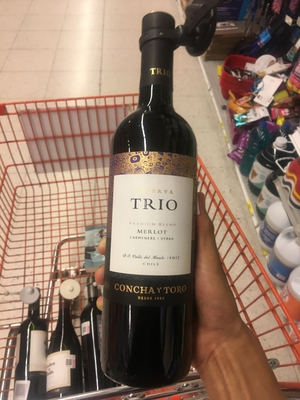trio merlot: (108, 10, 208, 381)
